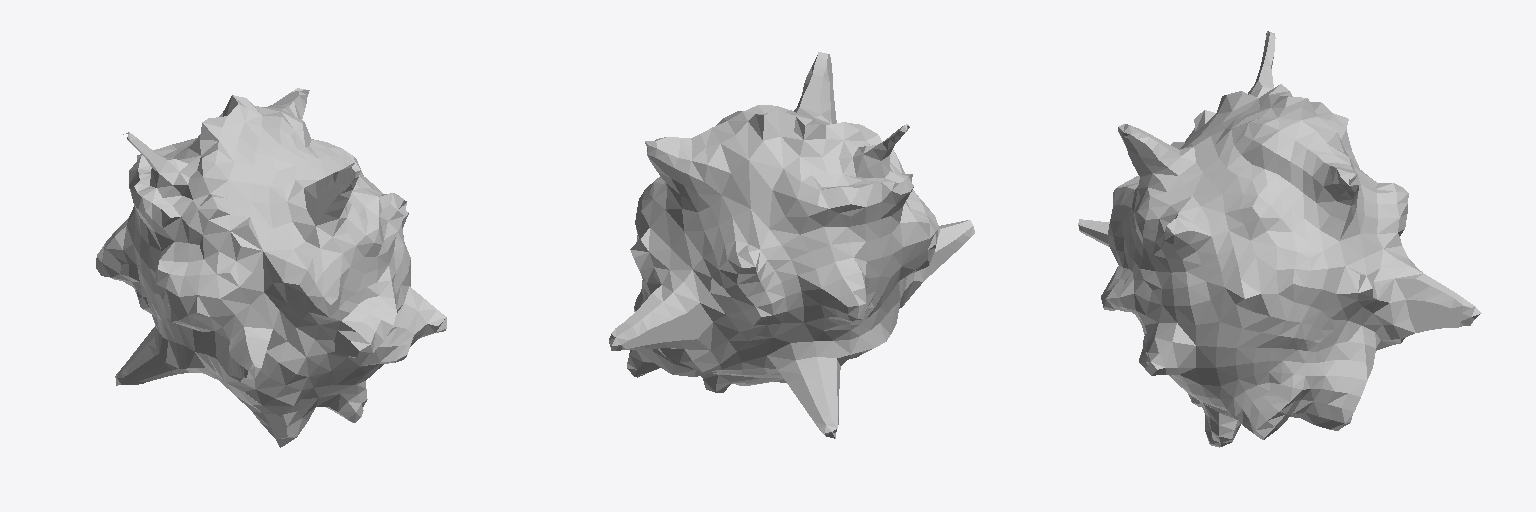
The model's file is texture explosion.obj.
3 renders of one model, left to right at view 1: azimuth 30°, elevation 25°; view 2: azimuth 150°, elevation 25°; view 3: azimuth 270°, elevation 25°, orthographic.
Parts seen in each view (by area): view 1: explosion_mesh; view 2: explosion_mesh; view 3: explosion_mesh.
Boxes of the visible parts, x1=… form: explosion_mesh: x1=96, y1=88, x2=446, y2=447; explosion_mesh: x1=609, y1=52, x2=974, y2=438; explosion_mesh: x1=1078, y1=31, x2=1481, y2=447.
Size of the model in its own units: 2.5 by 2.82 by 3.22.